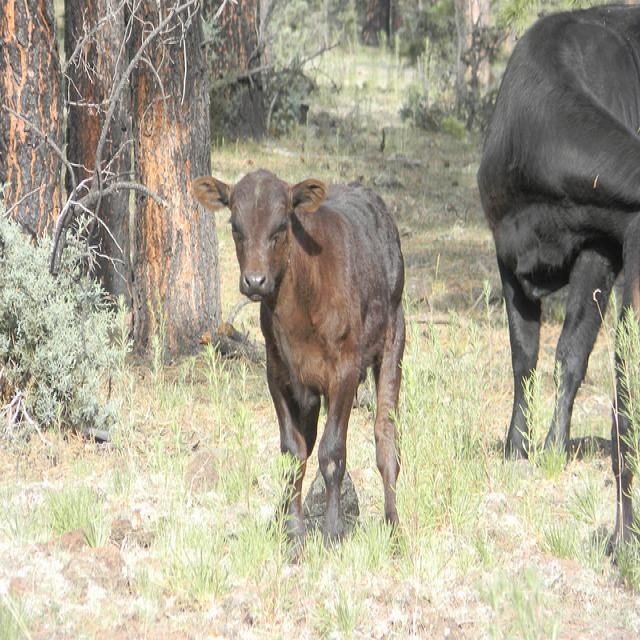cow: (476, 0, 639, 565), (183, 164, 407, 568)
